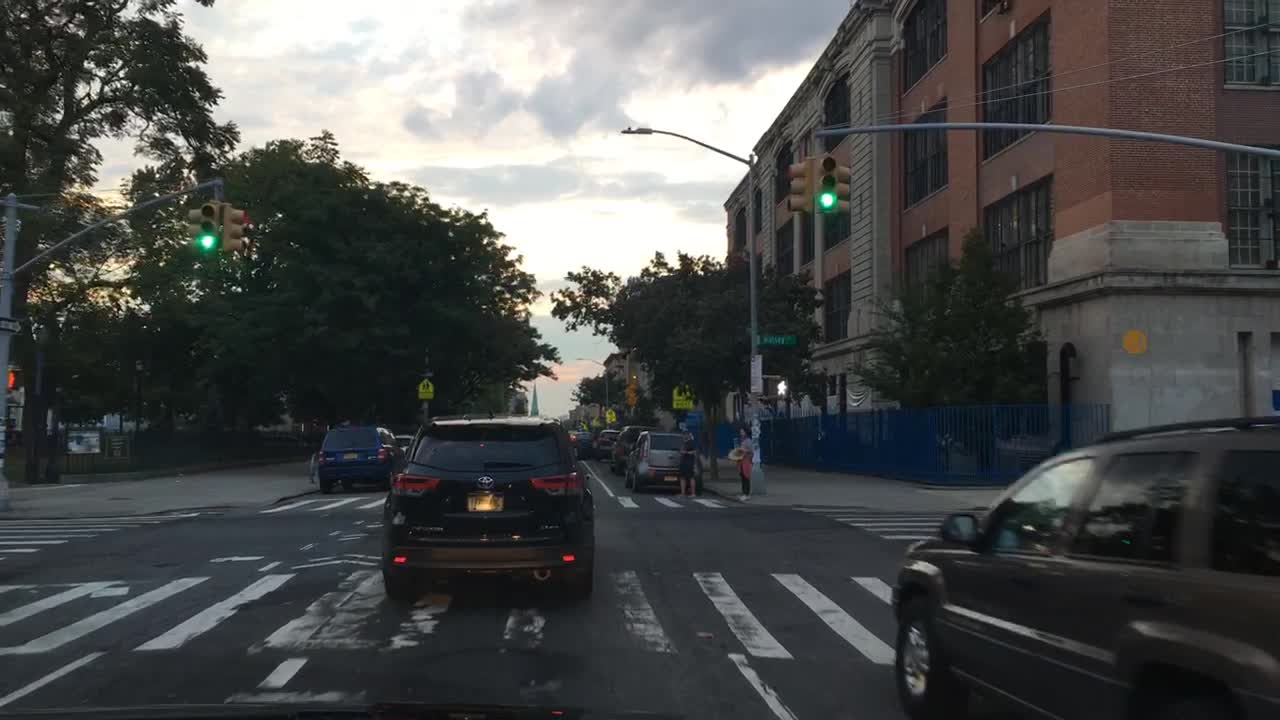car: (889, 417, 1279, 719), (383, 411, 599, 601), (317, 424, 395, 493), (625, 435, 687, 490), (608, 424, 657, 479), (566, 425, 594, 464), (586, 428, 618, 461), (397, 430, 413, 460)
person: (677, 431, 699, 503), (736, 423, 756, 499)
traffic light: (817, 153, 838, 208), (785, 158, 807, 210), (223, 206, 247, 253), (199, 198, 218, 250), (184, 210, 205, 255), (837, 165, 853, 214), (3, 367, 24, 393), (766, 377, 790, 397)
traffic sign: (673, 385, 694, 409), (753, 335, 798, 345), (418, 380, 435, 400), (0, 317, 20, 332), (608, 411, 617, 422)
